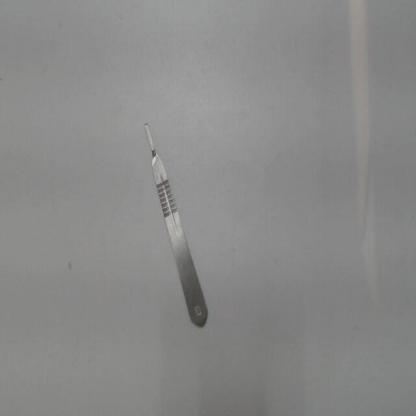No.3 BP Handle: (127, 106, 218, 342)
